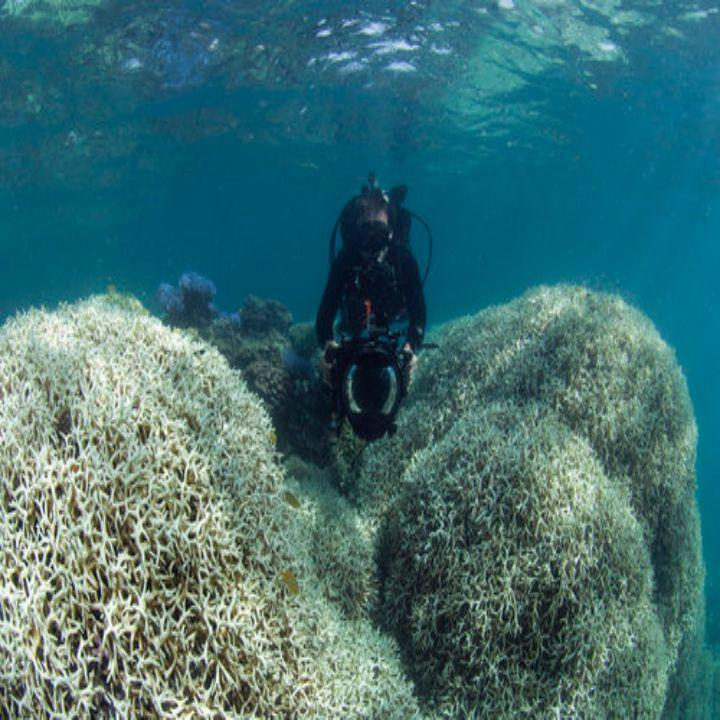Dead Coral: (44, 346, 671, 674)
